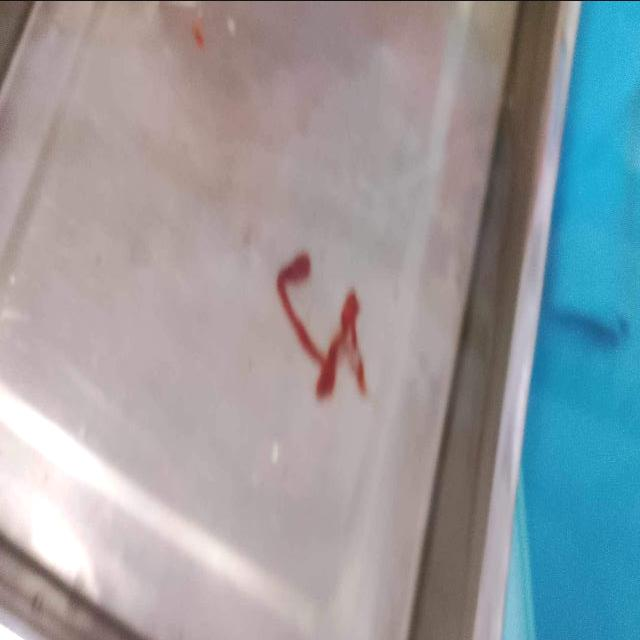General: (0, 1, 586, 638)
Sharps: (270, 248, 374, 405)
